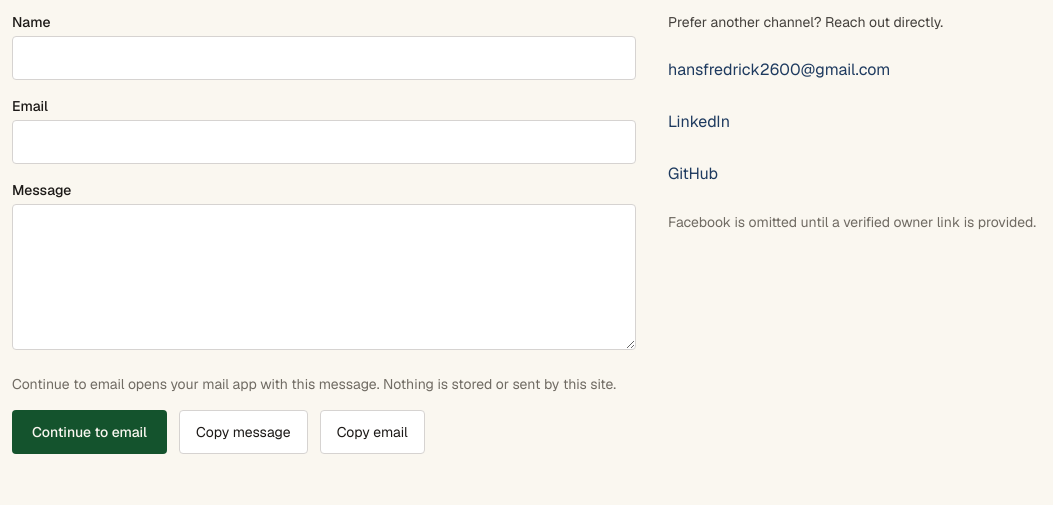
ContactComposer › shows validation errors without opening mail
The width and height of the screenshot is (1053, 505).
Click the button "Continue to email" at coordinates (90, 432), box [12, 410, 167, 454]
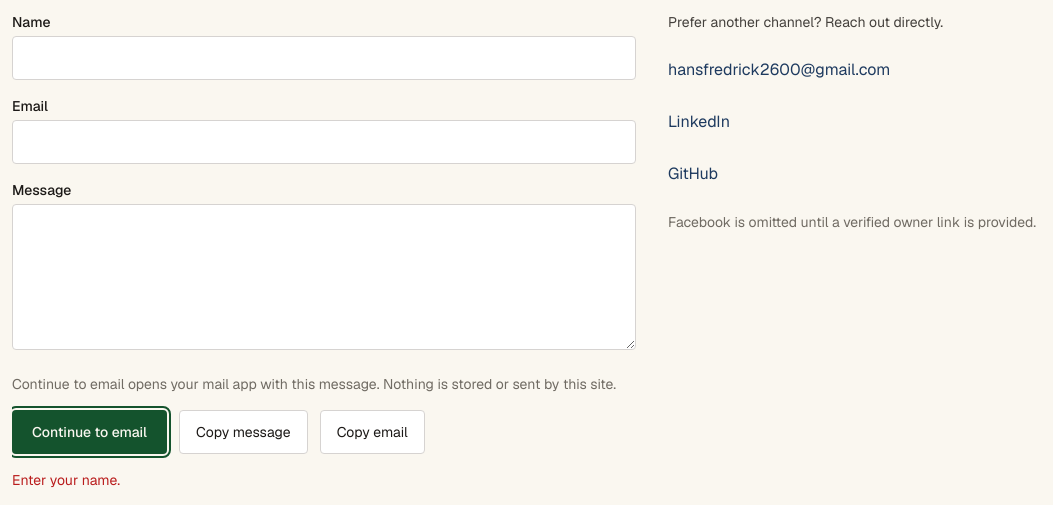
Expected: the text "Enter your name." is shown, [12, 471, 120, 489]
